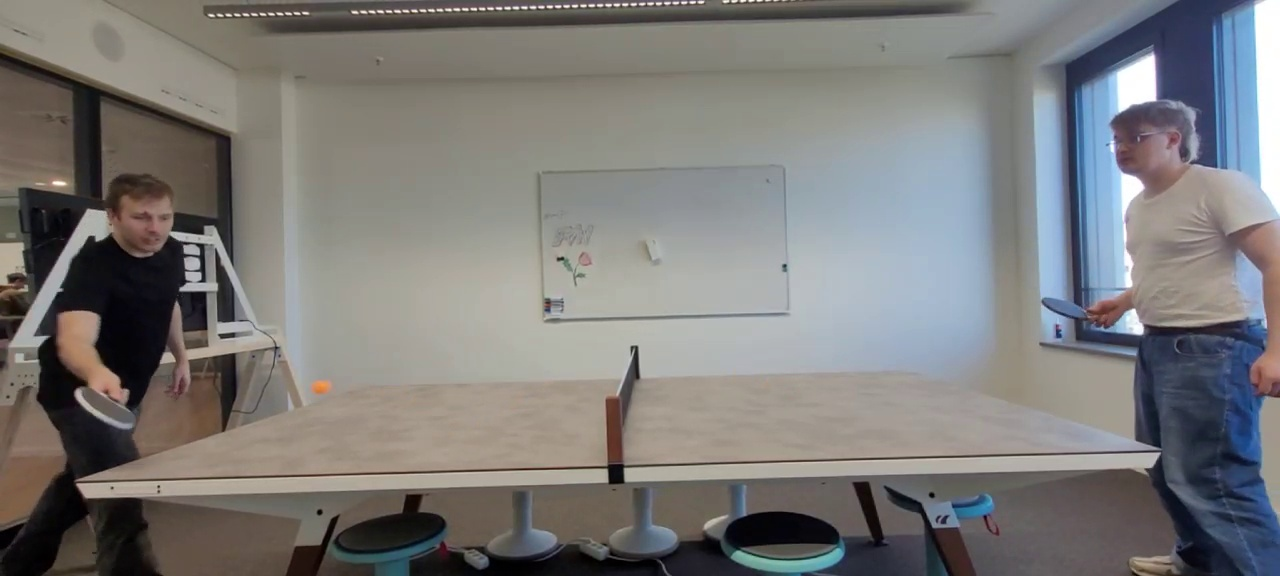plate: (77, 369, 1159, 481)
racket: (74, 387, 136, 429), (1042, 298, 1087, 320)
ttball: (312, 380, 329, 394)
